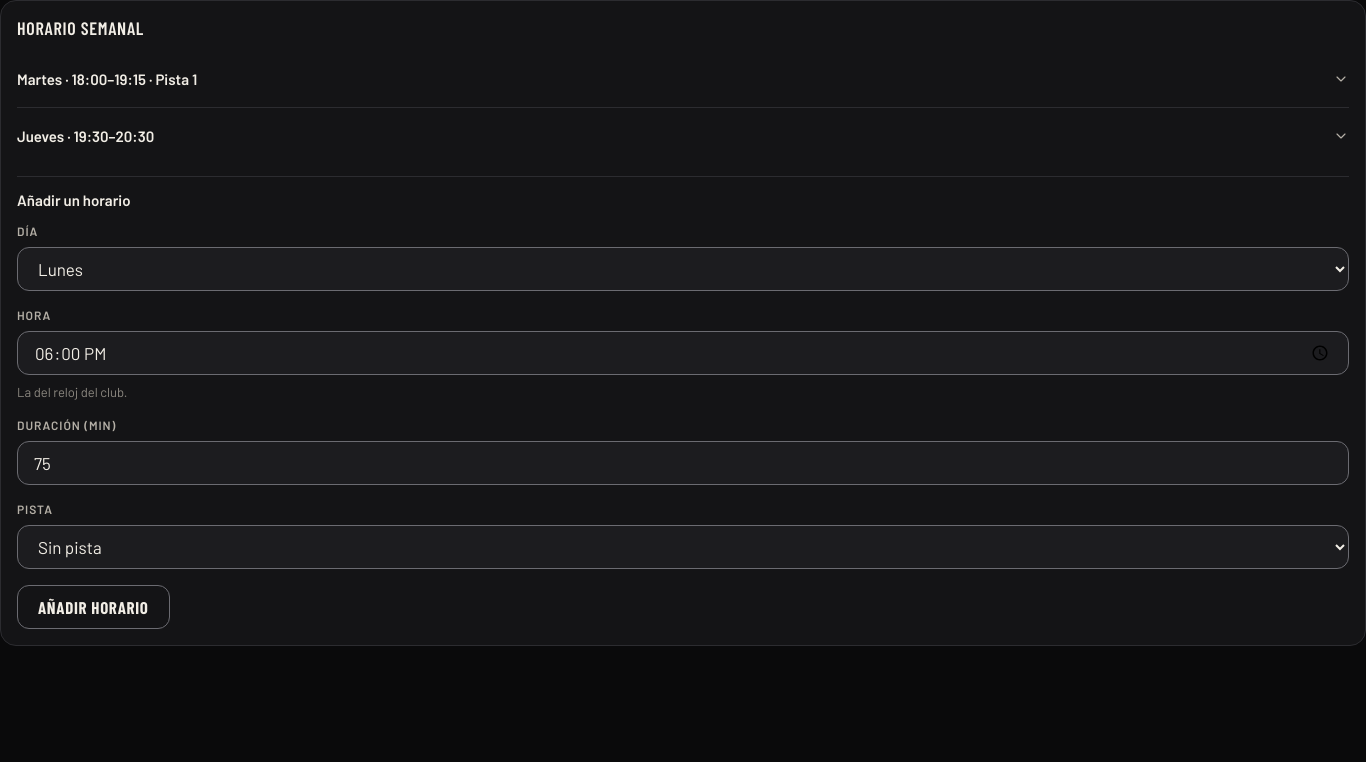
Test: ScheduleSection · añadir un horario › entrada inválida: el aviso general y cada error bajo su campo, enlazado
Click the button "Añadir horario" at (93, 607), box [17,585,170,629]
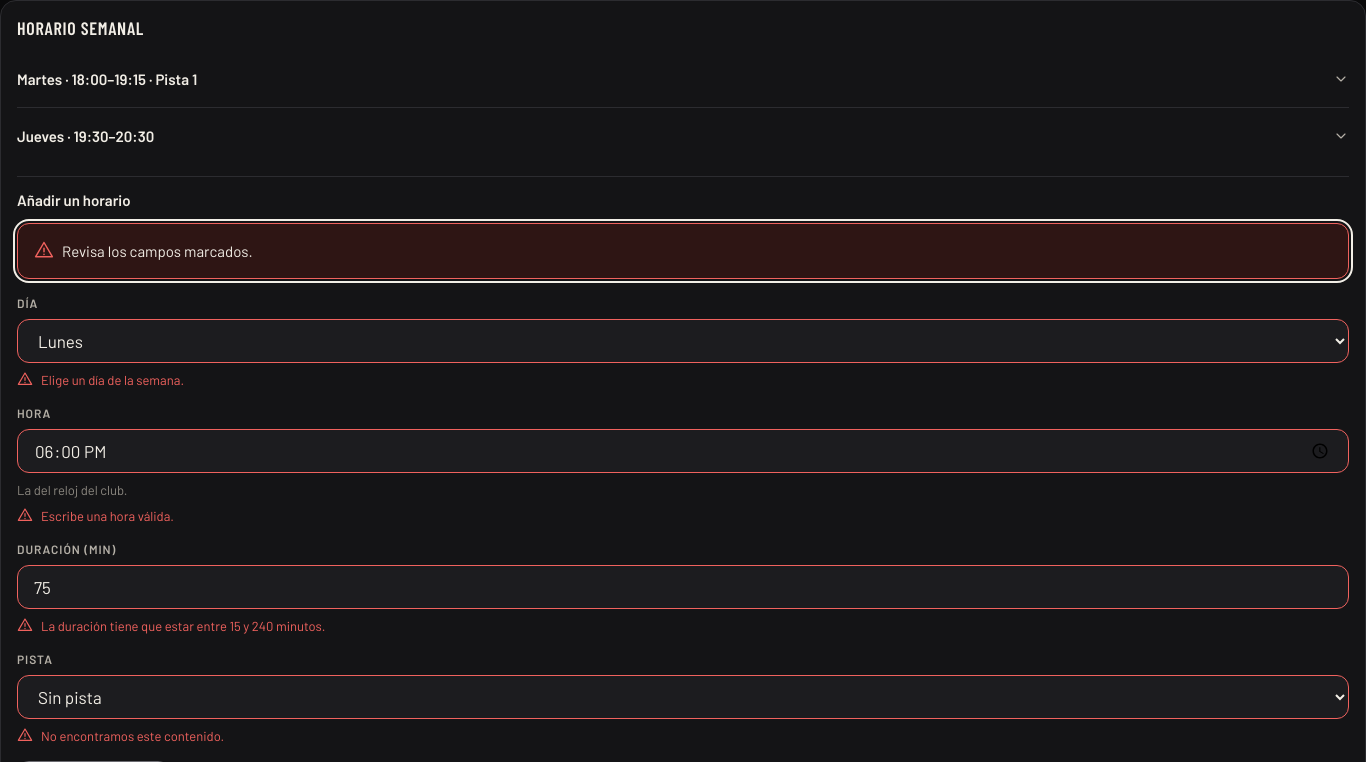
Now the text "Revisa los campos marcados." is shown, box [34,240,253,260]
